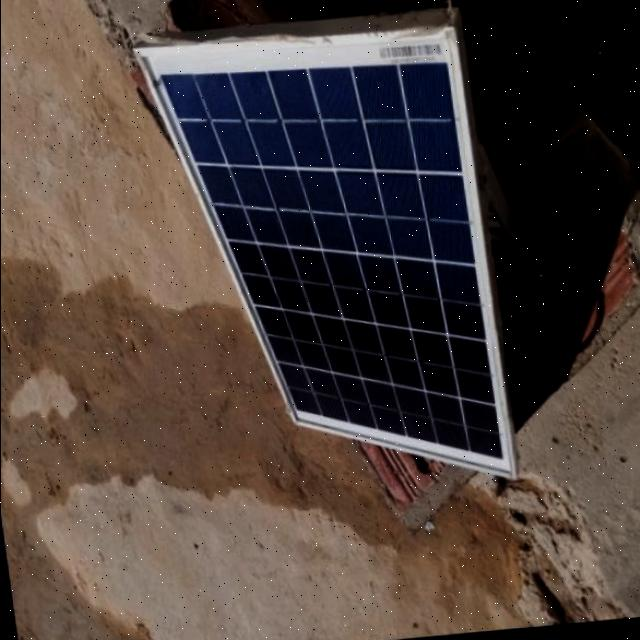Normal Solar Panel: (132, 19, 510, 509)
